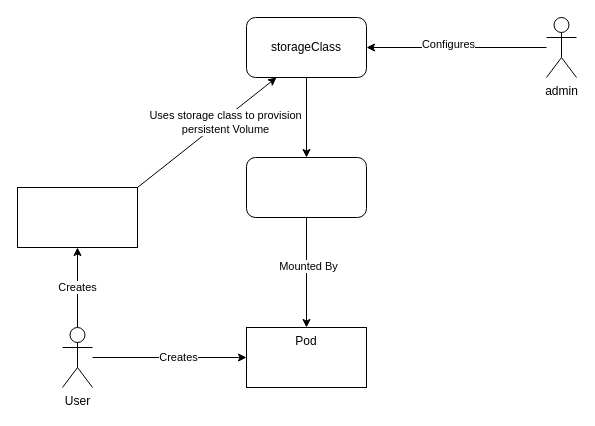
Some shapes in this 595 by 426 pixel diagram are drawn without their labels. The centre of each missing label's shape, as x and y in pixels:
"Persistent Volume" goes at point 306,187.
"PVC" goes at point 77,217.
